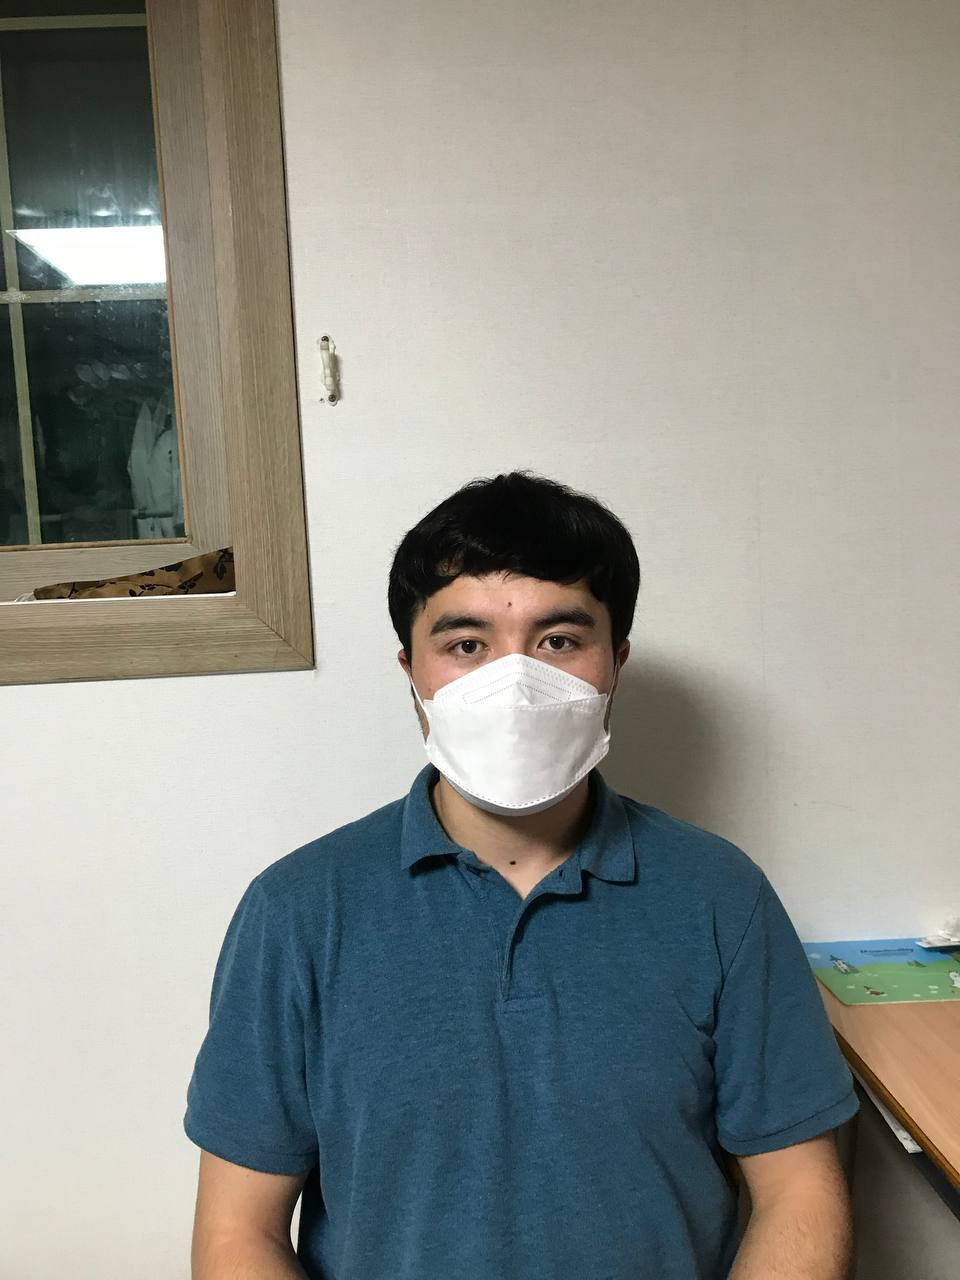Mask: (396, 662, 622, 818)
